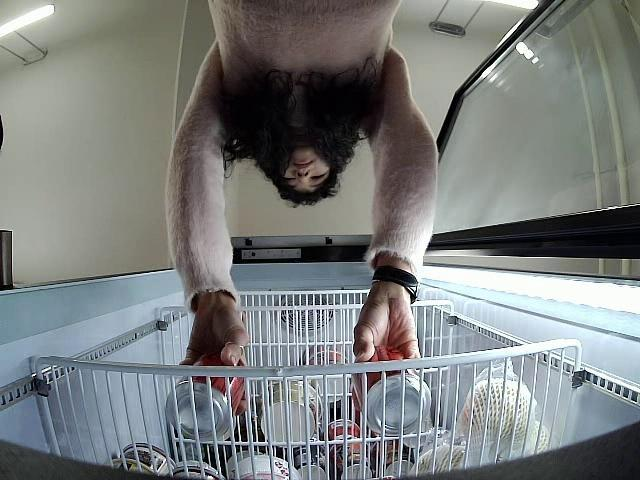11_cocaColaZero: (350, 344, 432, 436), (164, 348, 244, 442)
